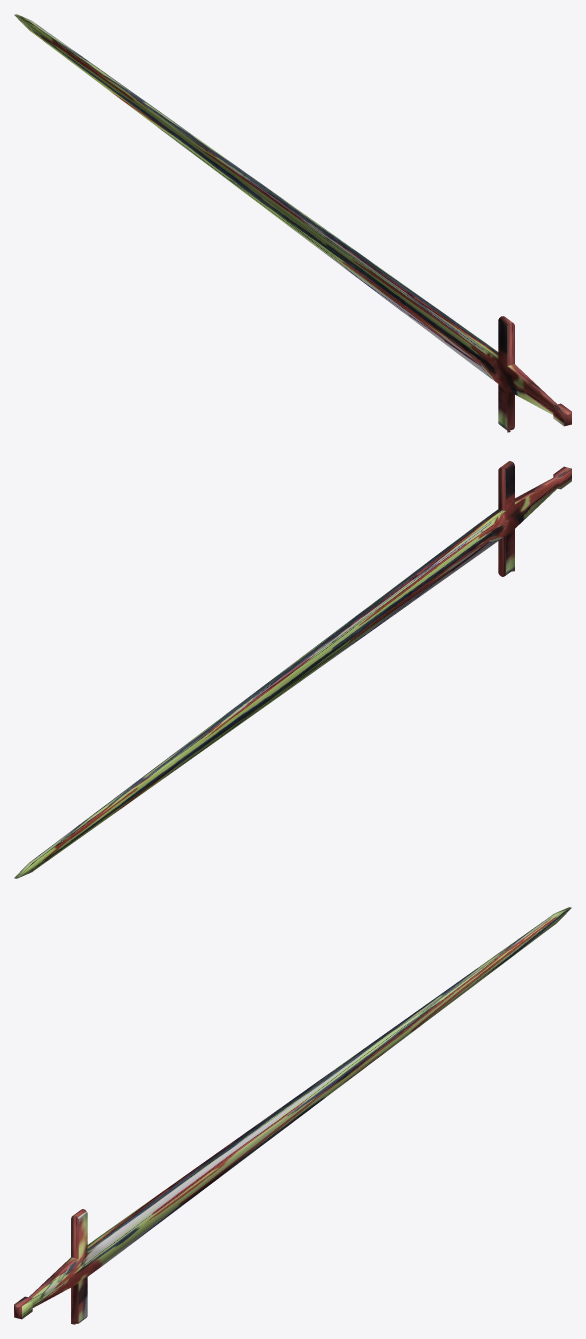
File: sword.blend.glb
The picture shows the model from 3 angles, top to bottom: view 1: azimuth 30°, elevation 25°; view 2: azimuth 150°, elevation 25°; view 3: azimuth 330°, elevation 25°; orthographic projection.
Visible parts, largest first — view 1: Cube; view 2: Cube; view 3: Cube.
Part boxes in pixels (left/top/right/bottom): Cube: left=14, top=14, right=571, bottom=432; Cube: left=14, top=461, right=571, bottom=878; Cube: left=14, top=907, right=571, bottom=1324.
Bounding box in the file's own units: 0.0103 × 0.1348 × 1.24.
Materials: 1 (1 with a texture image).
